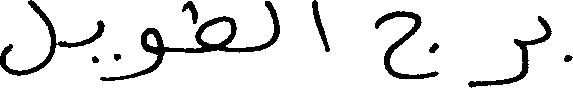X: (377, 6, 435, 83), (0, 0, 54, 80), (472, 34, 525, 87), (120, 23, 162, 84), (190, 0, 234, 57), (540, 11, 572, 66), (94, 15, 118, 85), (314, 0, 327, 56), (268, 0, 278, 51)
